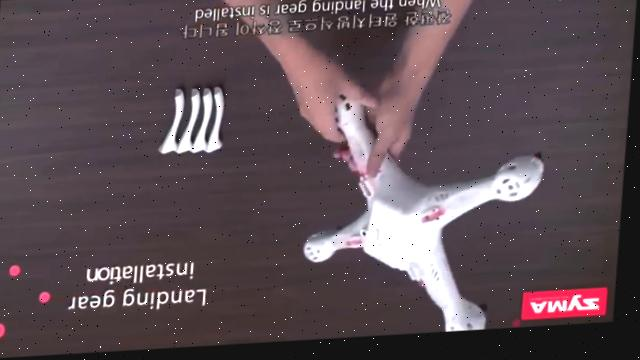drone: (302, 88, 555, 344)
